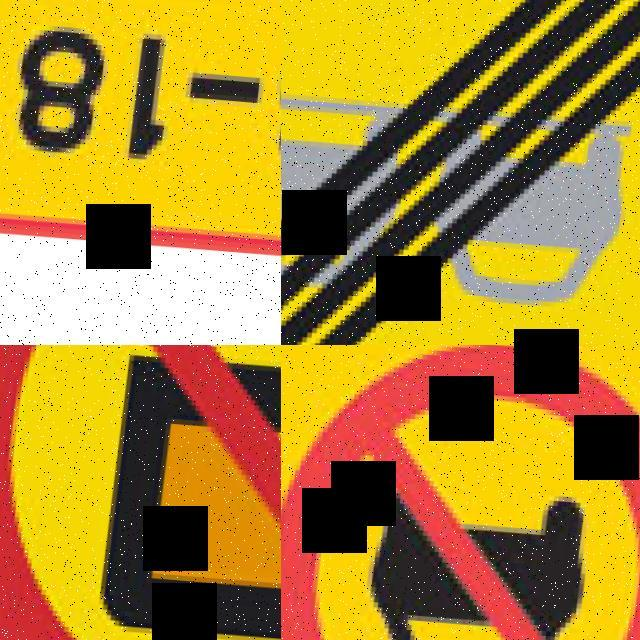108: (281, 0, 640, 345)
181: (0, 0, 281, 289)
42: (0, 345, 281, 640)
No entry for motor vehicles: (281, 345, 640, 640)
